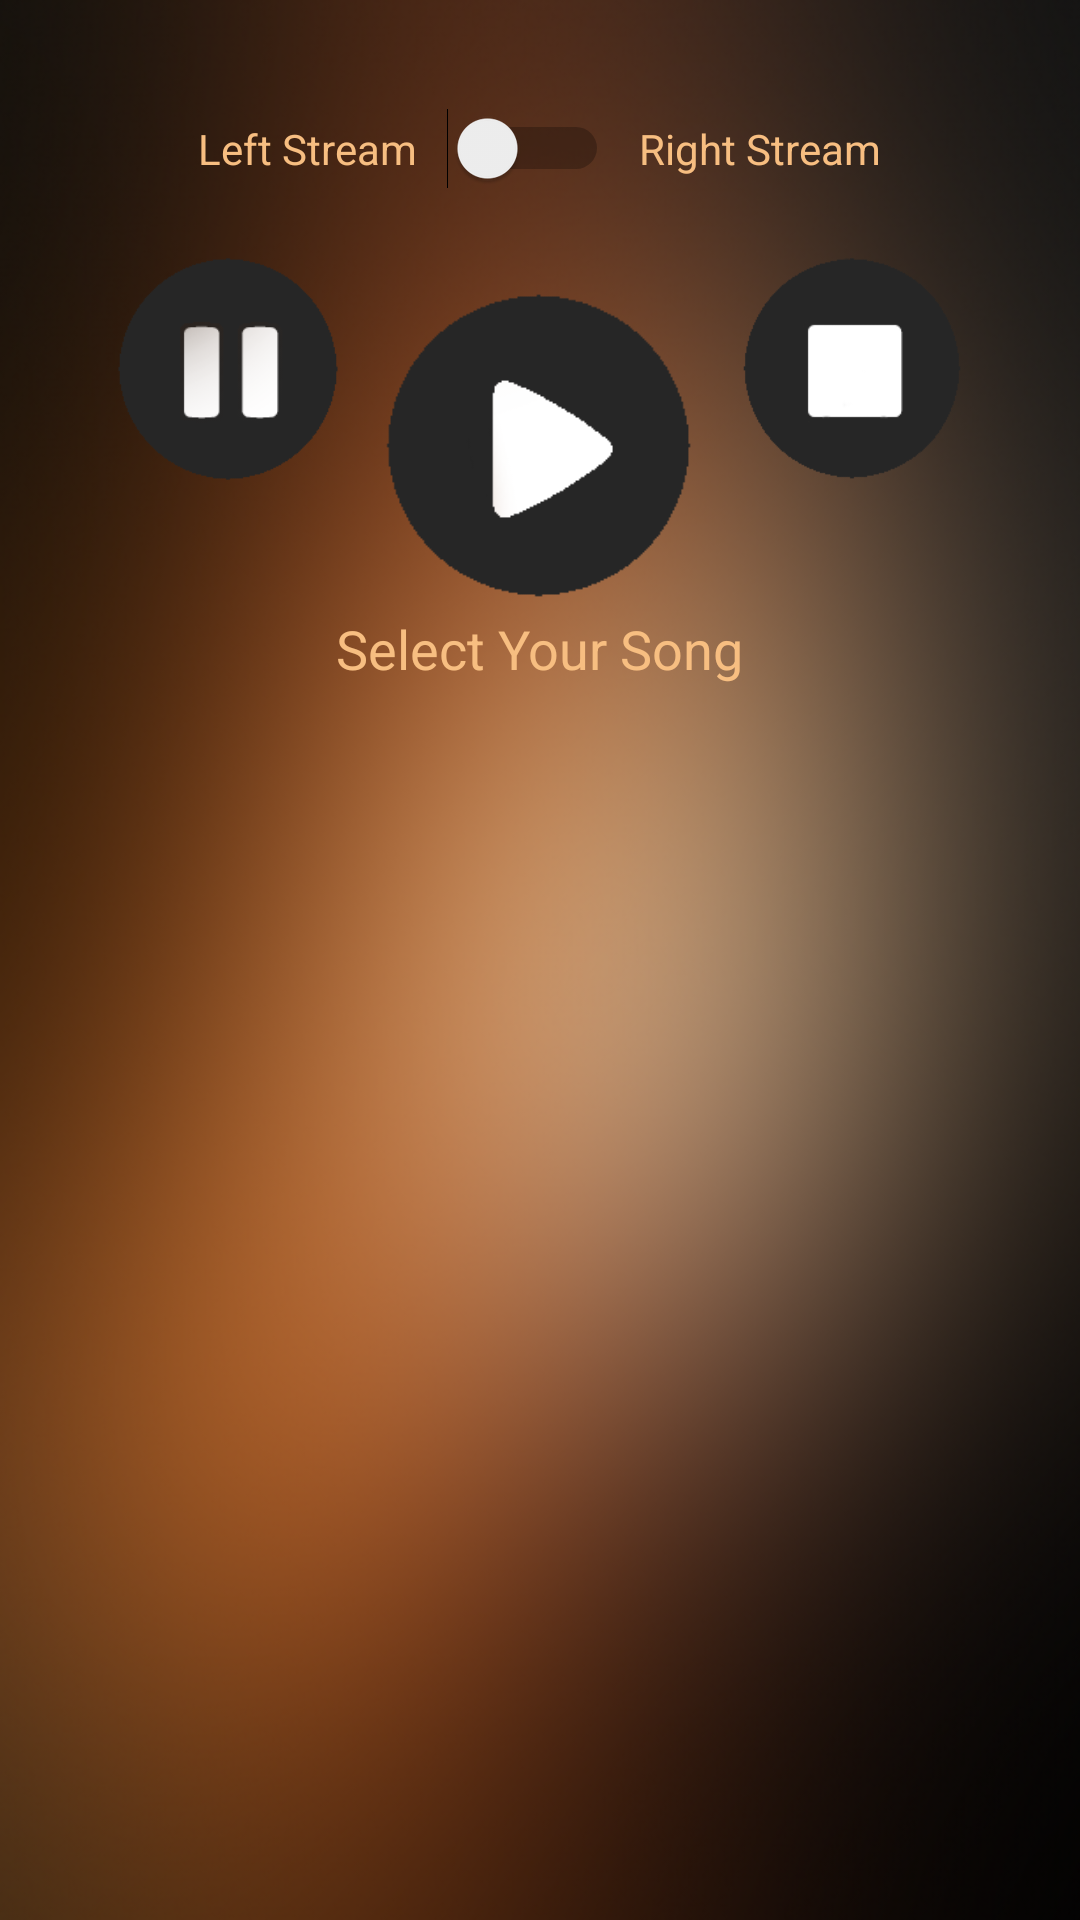

Icon click points for this 1080w x 1920h phone screenshot, format [x,y]:
pause: [228,369]
play: [539,445]
stop: [852,369]
